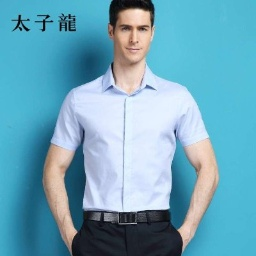face: (106, 1, 156, 65)
